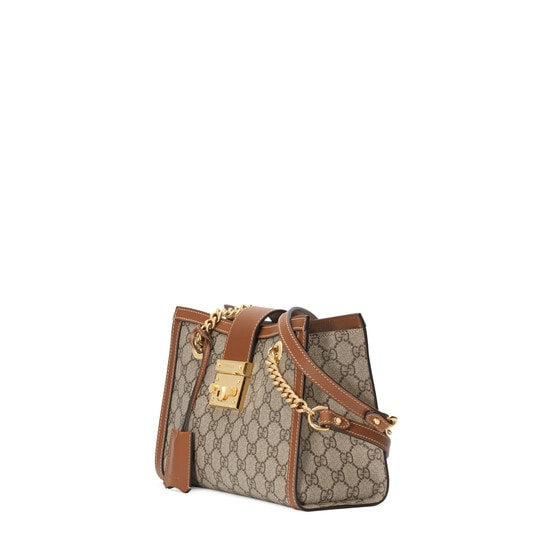Gucci: (160, 301, 393, 506), (201, 409, 283, 491)
